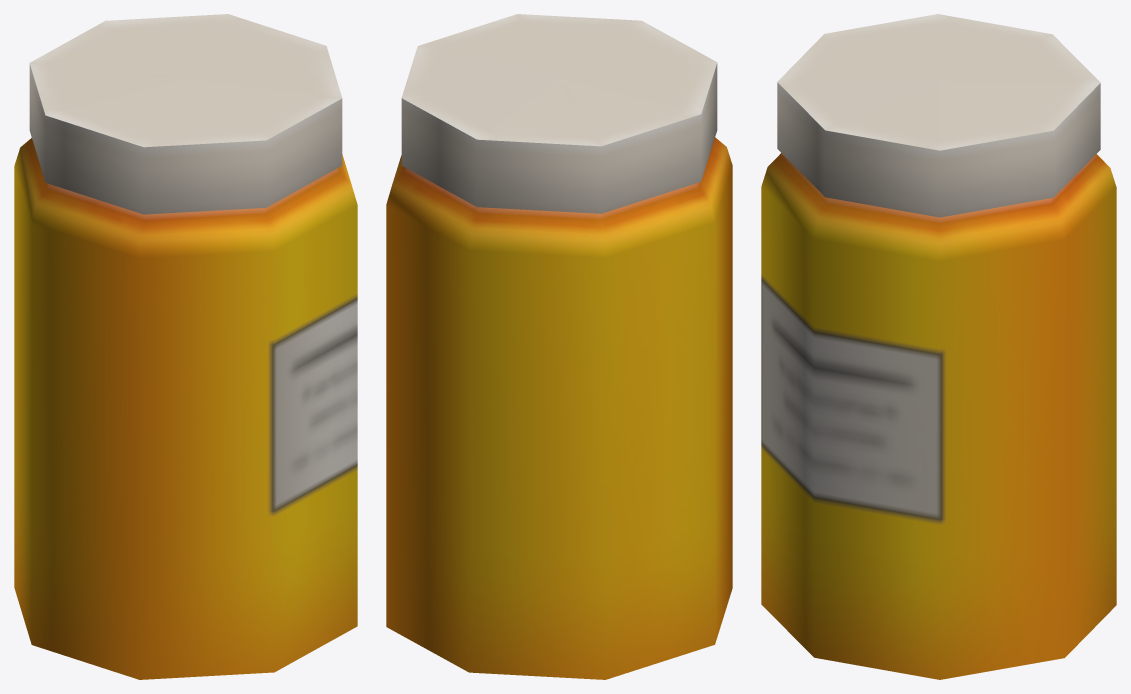
File: G_SiZheBingFang_01_YaoPin_04.FBX
3 views of the same model, side by side, from view 1: azimuth 30°, elevation 25°; view 2: azimuth 150°, elevation 25°; view 3: azimuth 270°, elevation 25° (orthographic).
Visible parts, largest first — view 1: SiZheBingFang_pingzi_05; view 2: SiZheBingFang_pingzi_05; view 3: SiZheBingFang_pingzi_05.
Boxes of the visible parts, left/top/right/bottom form: SiZheBingFang_pingzi_05: left=14, top=14, right=357, bottom=679; SiZheBingFang_pingzi_05: left=386, top=14, right=732, bottom=679; SiZheBingFang_pingzi_05: left=761, top=14, right=1116, bottom=679.
Bounding box in the file's own units: 12.24 × 19.92 × 12.24.
